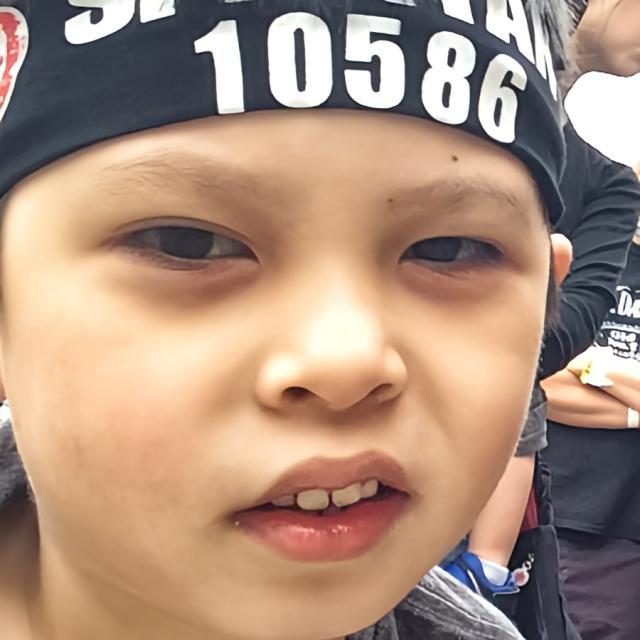disgust: (0, 107, 555, 640)
